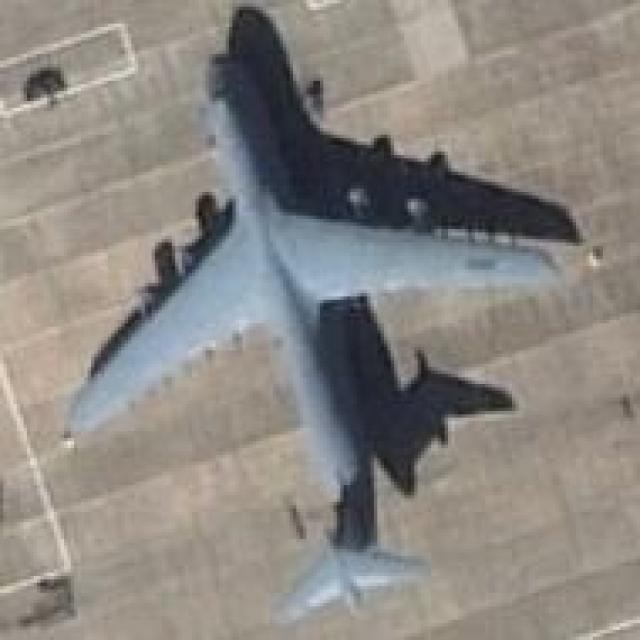C-5_TopDown: (61, 0, 590, 623)
